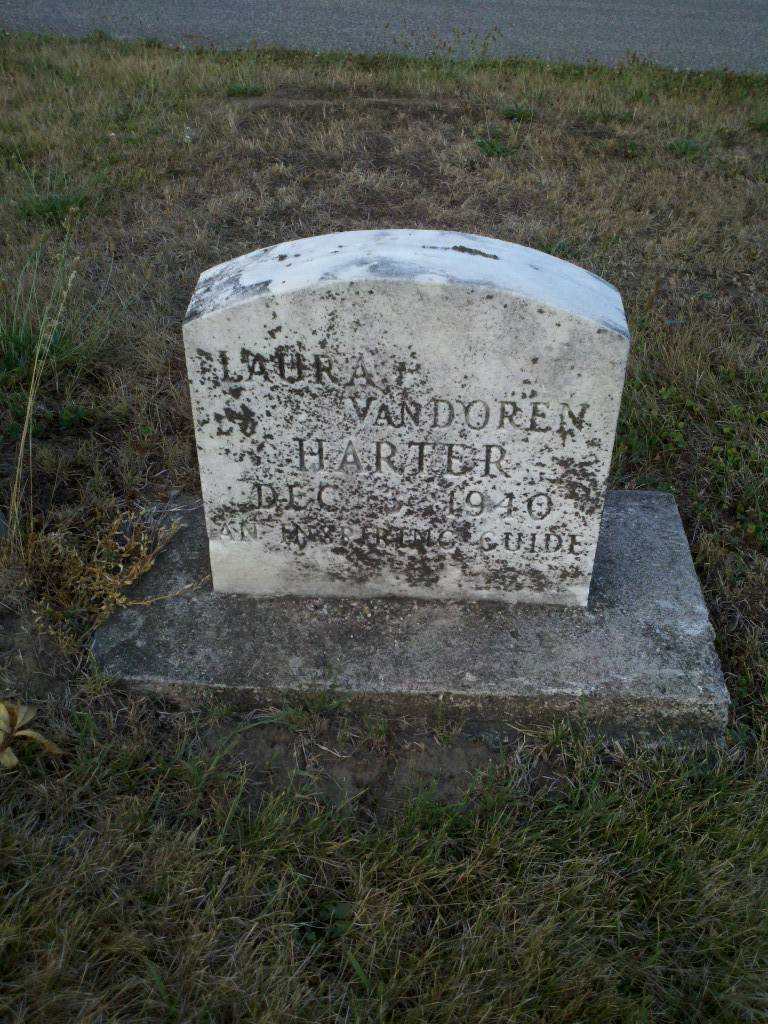upright: (82, 225, 736, 754)
